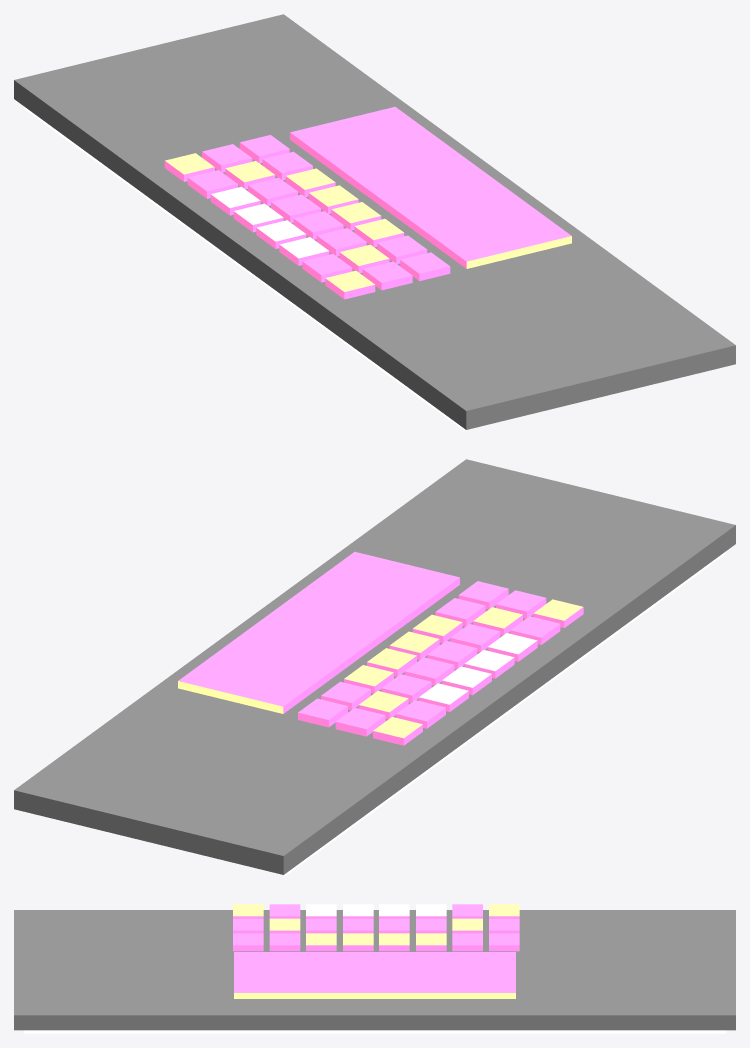
Rendered from djset.glb.
3 views of the same model, one above another, from view 1: azimuth 30°, elevation 25°; view 2: azimuth 150°, elevation 25°; view 3: azimuth 270°, elevation 25° (orthographic). The views are drawn at different scales.
Parts seen in each view (by area): view 1: dj set.015; view 2: dj set.015; view 3: dj set.015.
Part boxes in pixels (x1=…): dj set.015: x1=14, y1=14, x2=735, y2=430; dj set.015: x1=14, y1=459, x2=735, y2=875; dj set.015: x1=14, y1=904, x2=735, y2=1033.
Size of the model in its own units: 0.641 by 0.0905 by 1.86.
